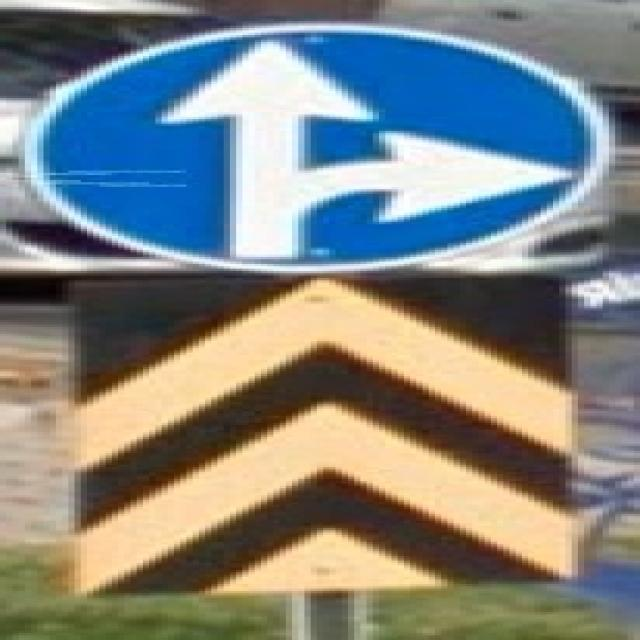Straight or Right: (26, 27, 604, 270)
